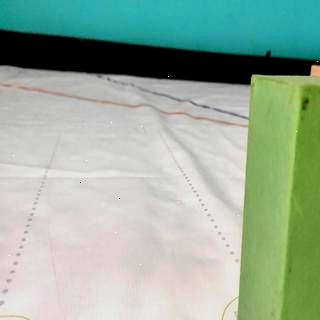greenbox: (237, 74, 320, 320)
